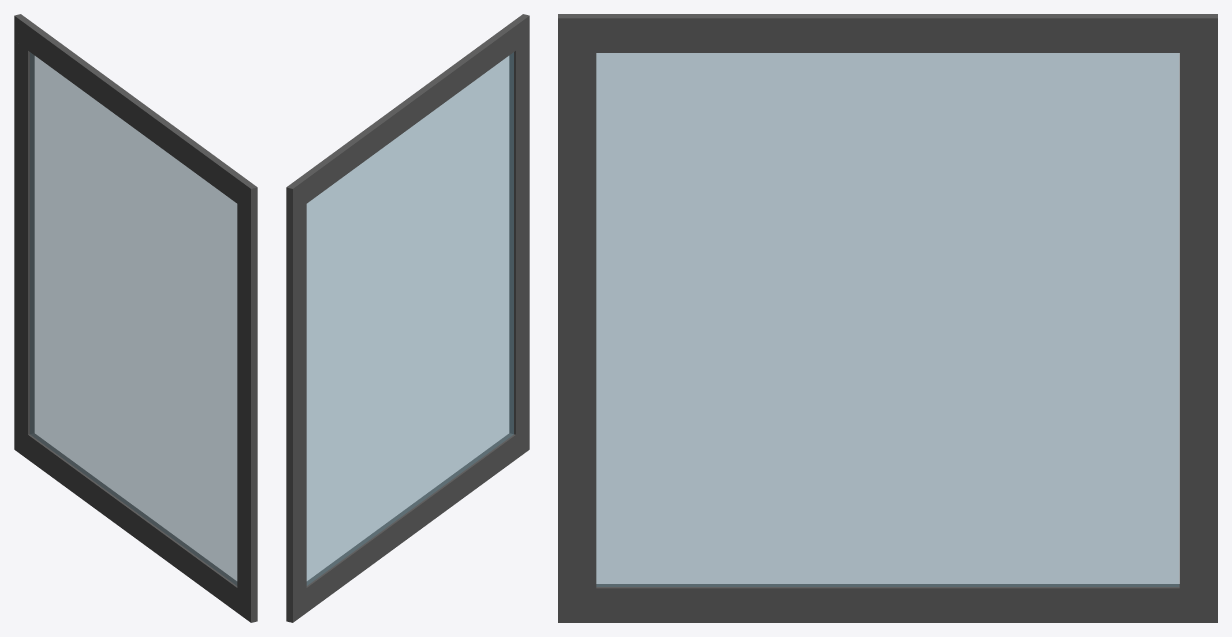
The model's file is Windows.glb.
3 renders of one model, left to right at view 1: azimuth 30°, elevation 25°; view 2: azimuth 150°, elevation 25°; view 3: azimuth 270°, elevation 25°, orthographic. The views are drawn at different scales.
Parts seen in each view (by area): view 1: Window, Inner Window Frame; view 2: Window, Inner Window Frame; view 3: Window, Inner Window Frame.
Boxes of the visible parts, bbox=[...] form: Window: bbox=[30, 52, 237, 585]; Inner Window Frame: bbox=[14, 14, 257, 622]; Window: bbox=[306, 52, 513, 585]; Inner Window Frame: bbox=[286, 14, 529, 622]; Window: bbox=[596, 53, 1179, 586]; Inner Window Frame: bbox=[558, 14, 1217, 622].
Size of the model in its own units: 0.025 by 1.57 by 1.55.
